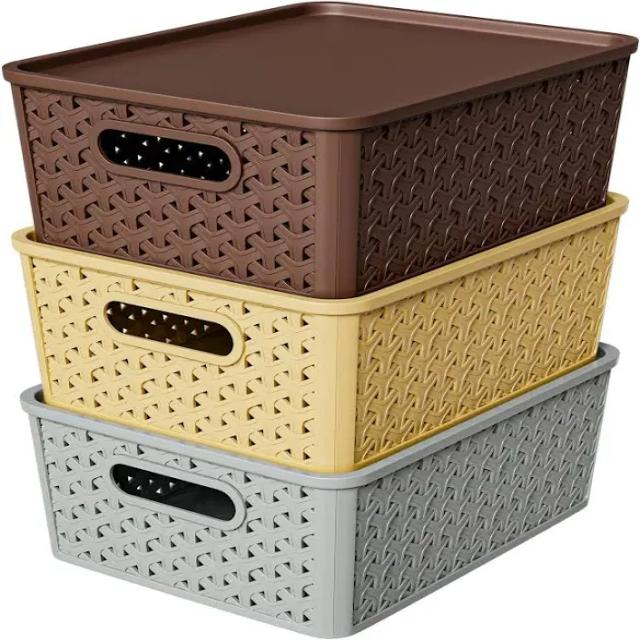plastic_box: (0, 6, 566, 268), (32, 354, 631, 600), (0, 229, 640, 392)
